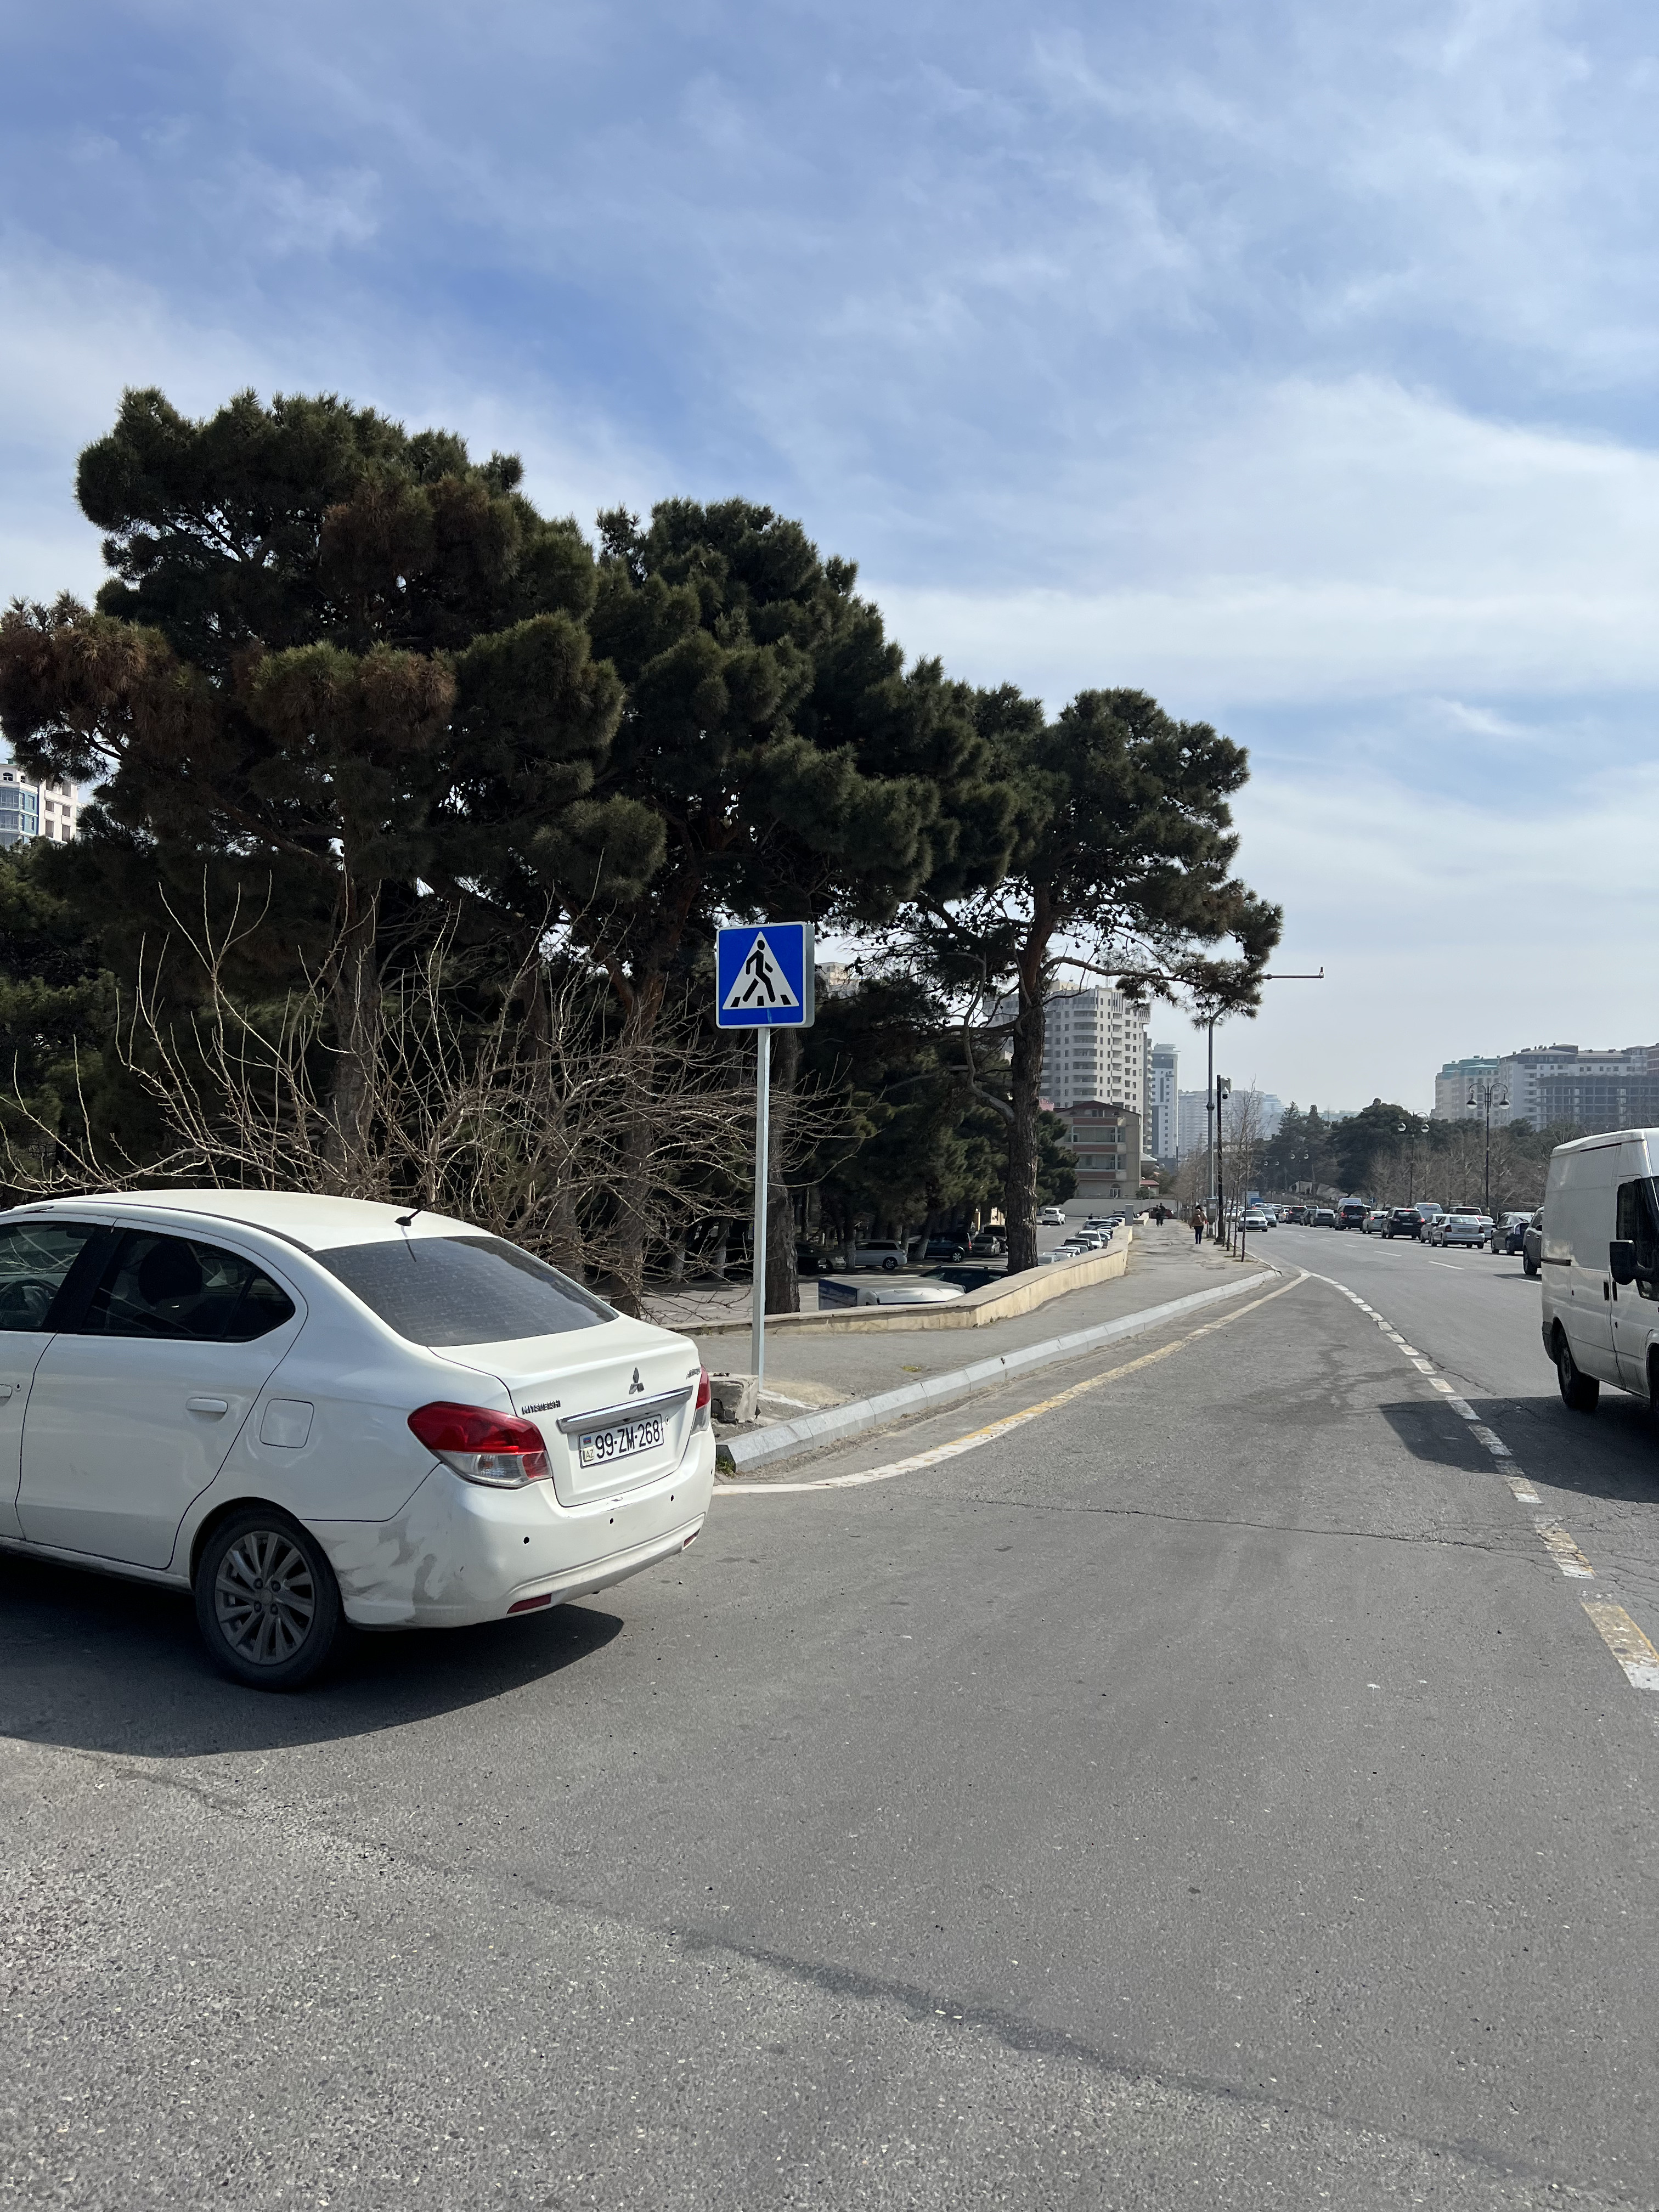Pedestrian Crossing: (716, 921, 807, 1028)
